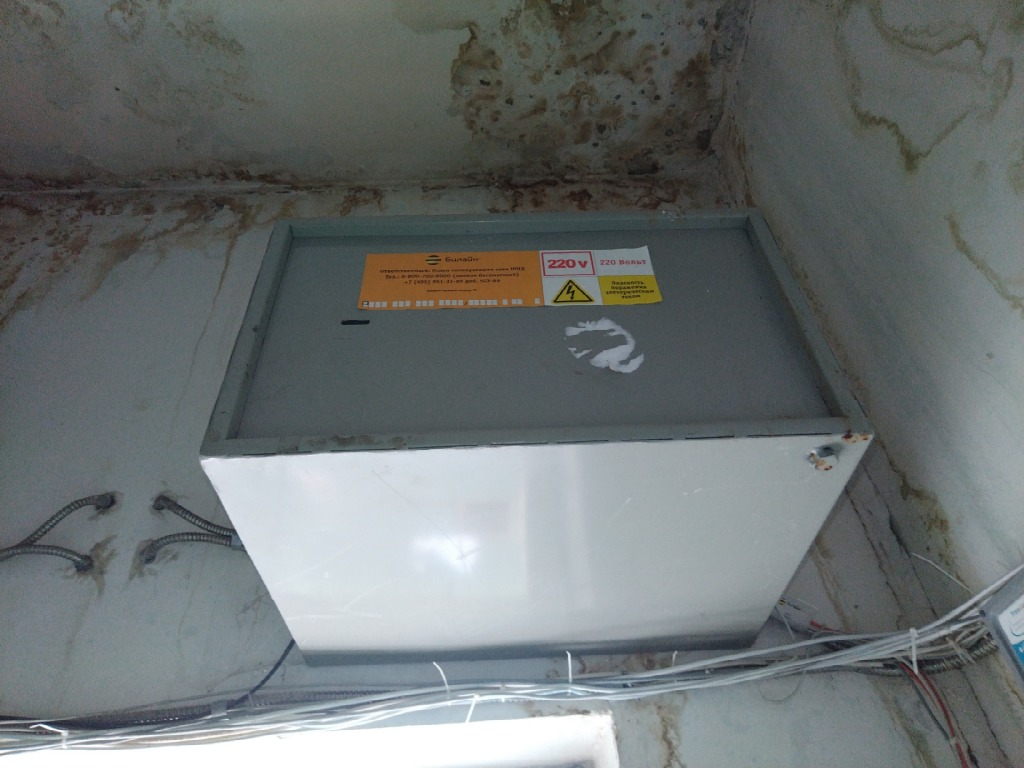e2-6u: (192, 200, 879, 469)
